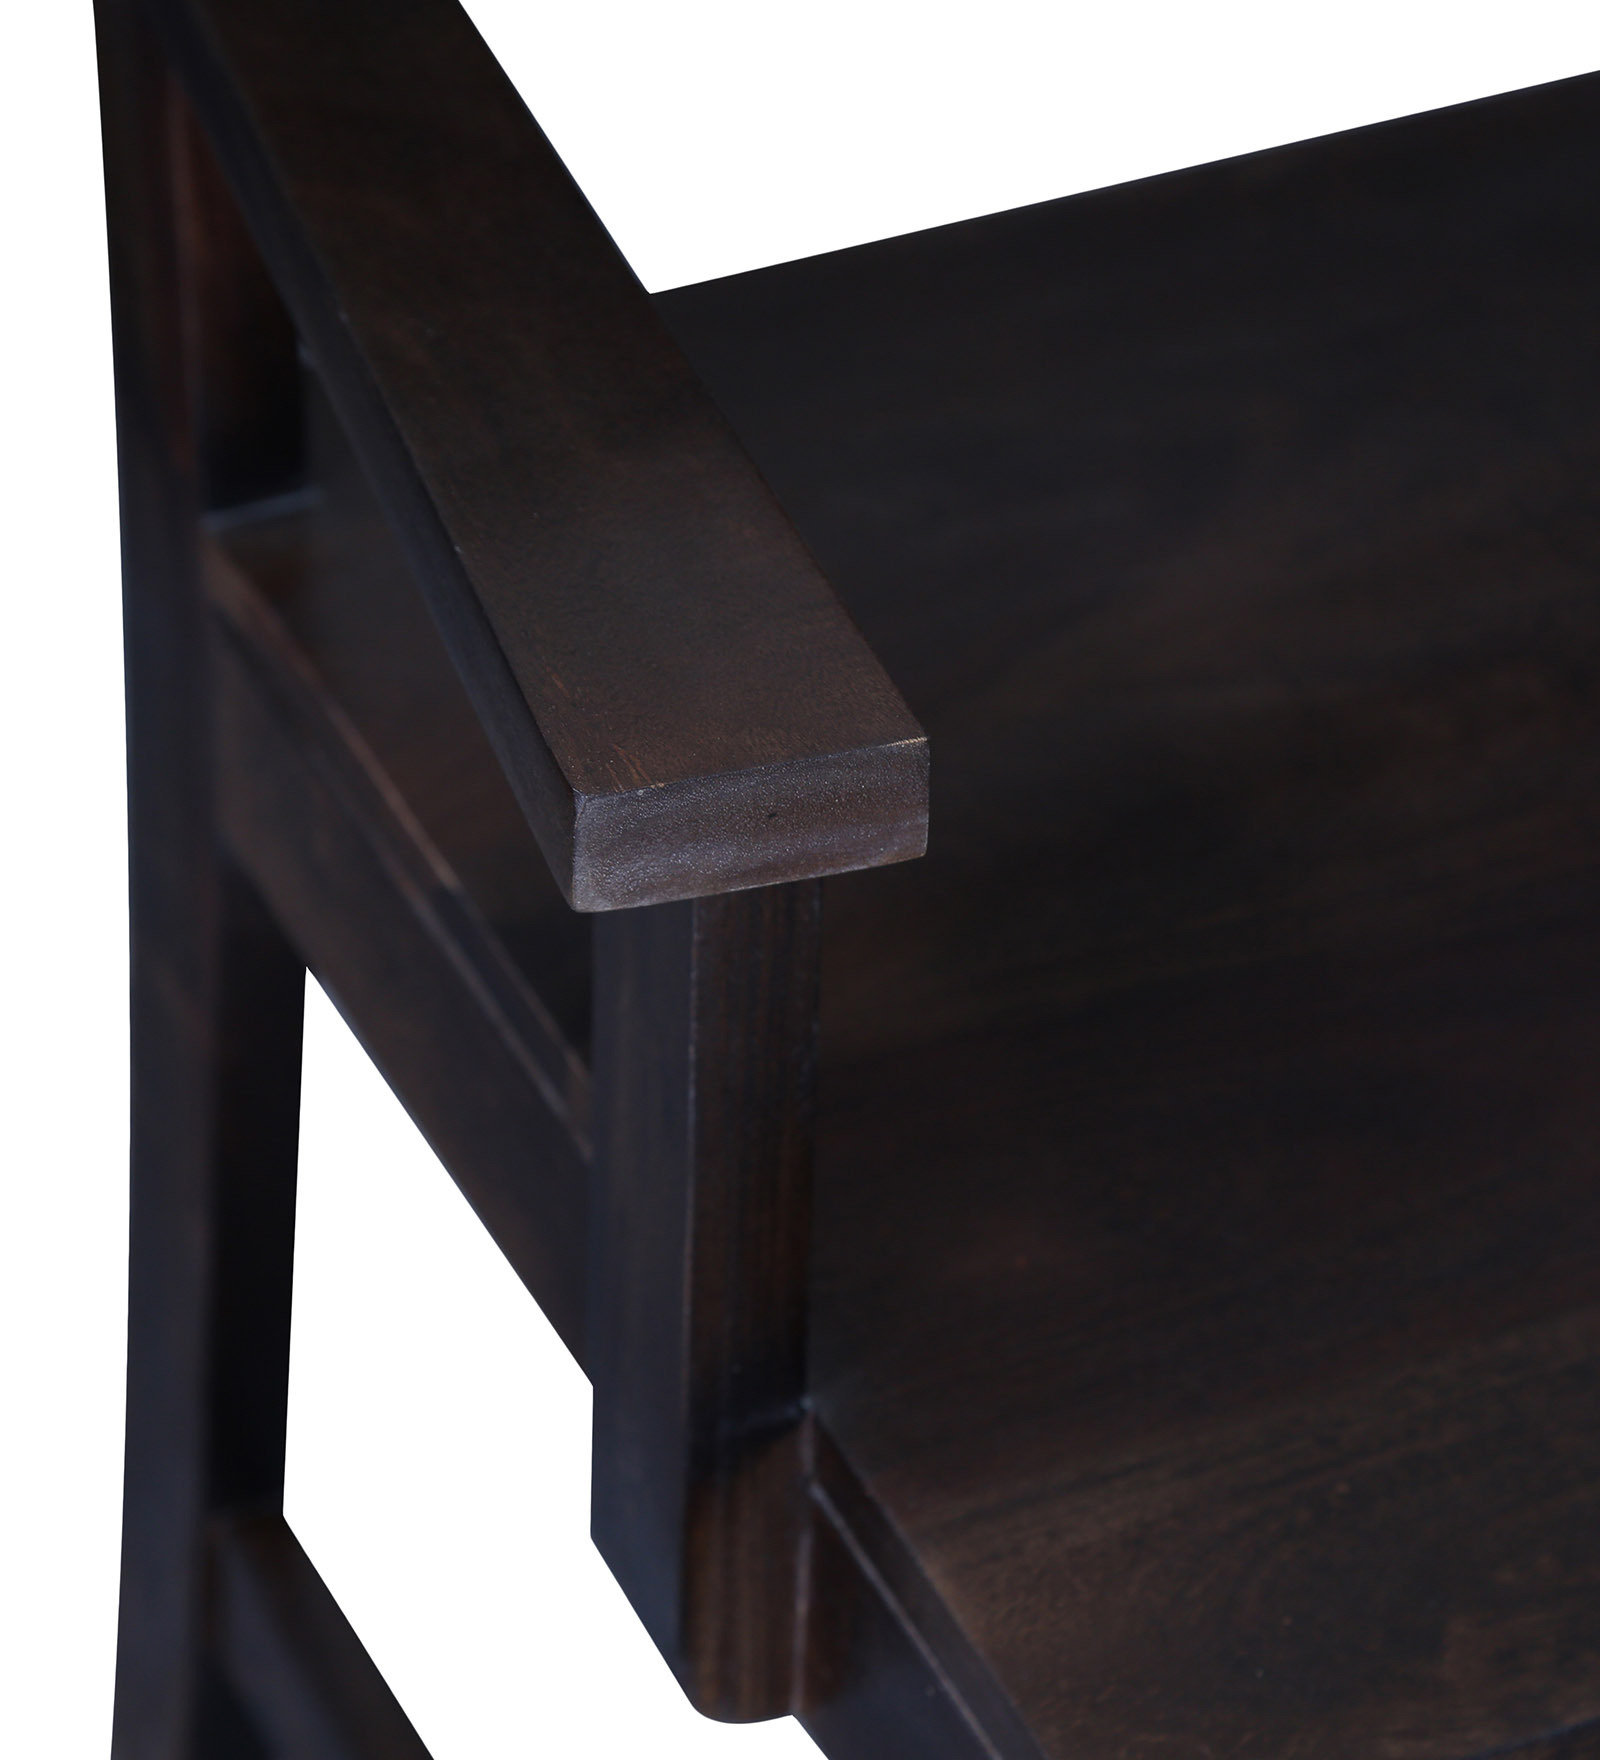Segur Arm Chair in Warm Chestnut Finish by Woodsworth: (112, 202, 1552, 1760)
